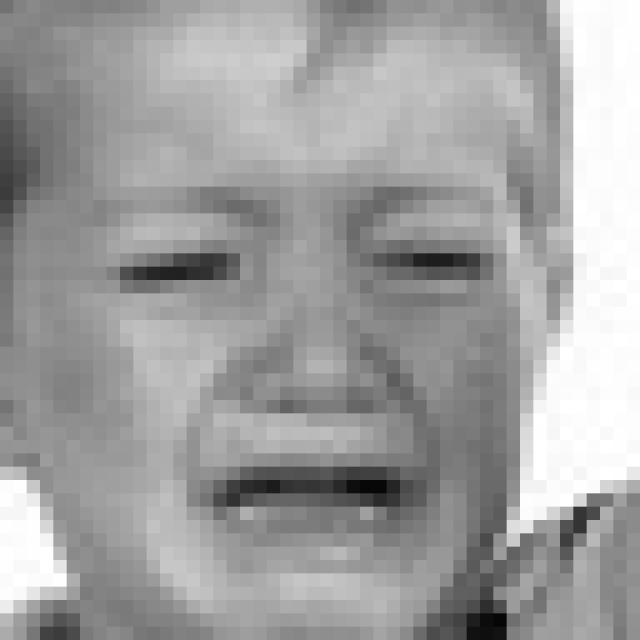sad: (63, 172, 505, 589)
